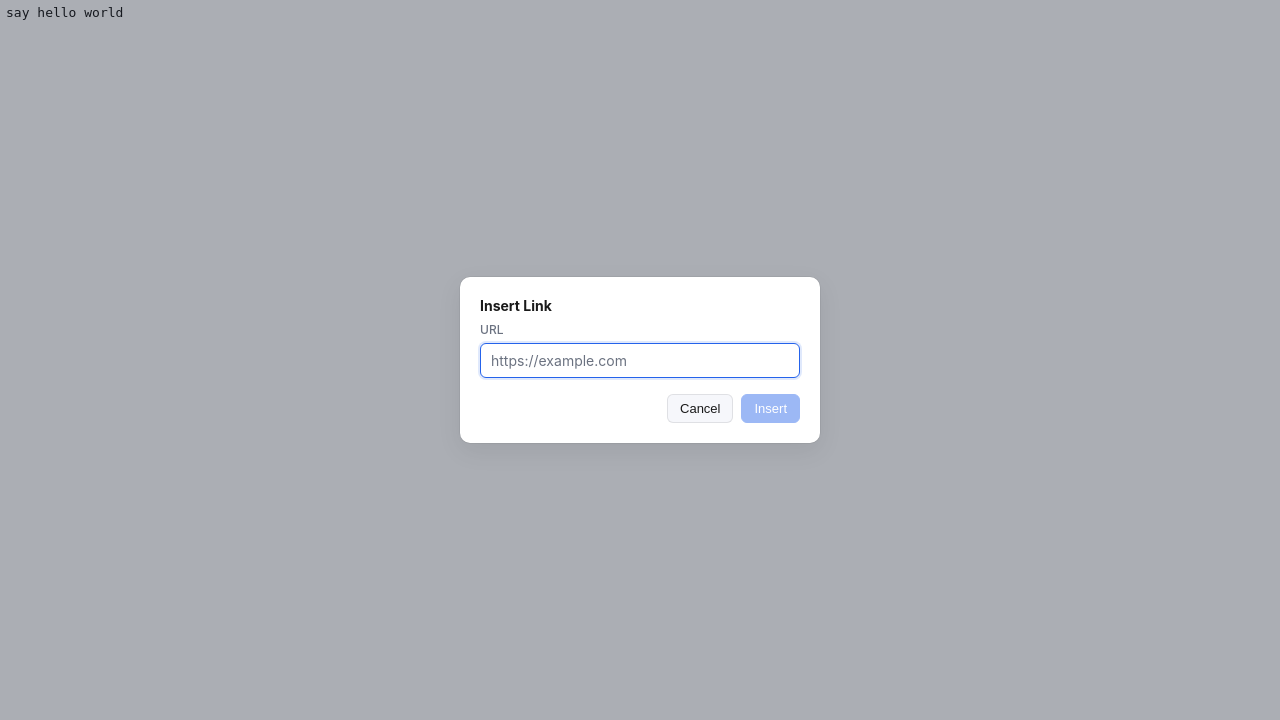
Test case: D73 — Source ⌘K request is bound to its document and view mode › D73-4 closing another document, or editing this one, keeps the request; Insert writes into A once
Expected: the dialog "Insert Link" is shown, [460, 277, 820, 443]
Type "x.io" into the field labelled "URL" at coordinates (640, 360), box [480, 343, 800, 378]
Then press Enter
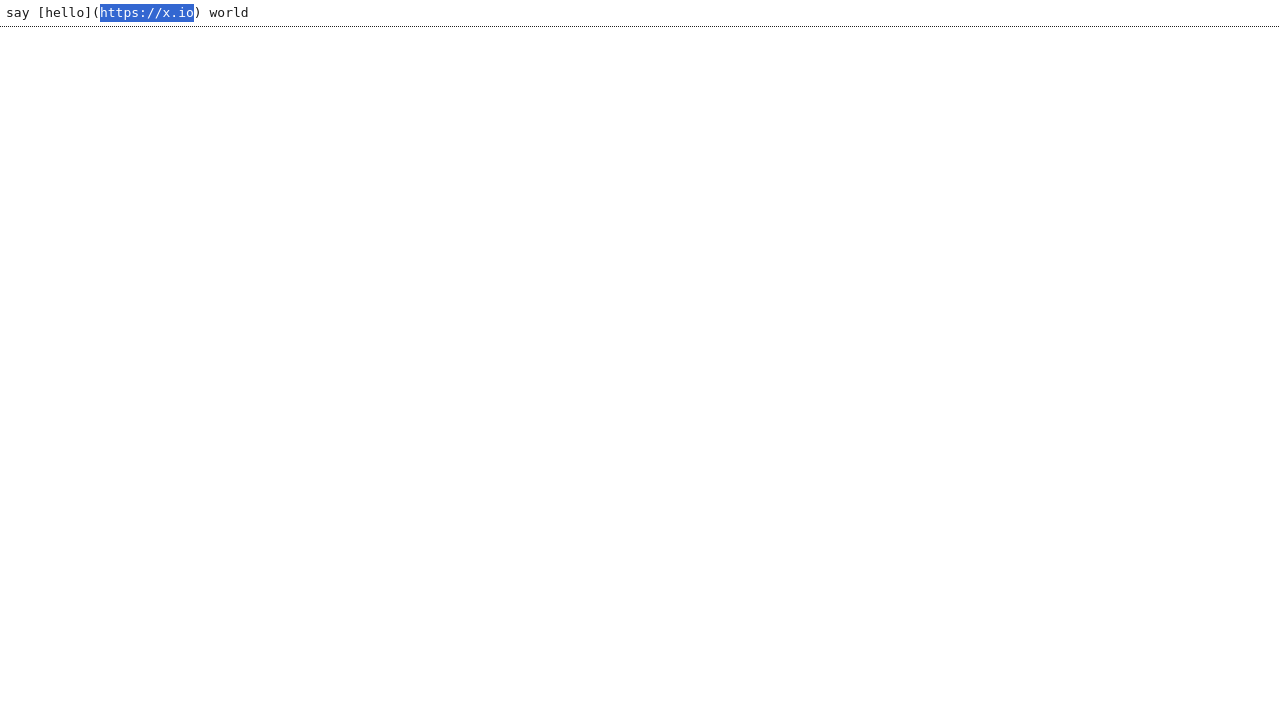
Now the text box labelled "say [hello](https://x.io) world" is shown, box [6, 5, 249, 20]
